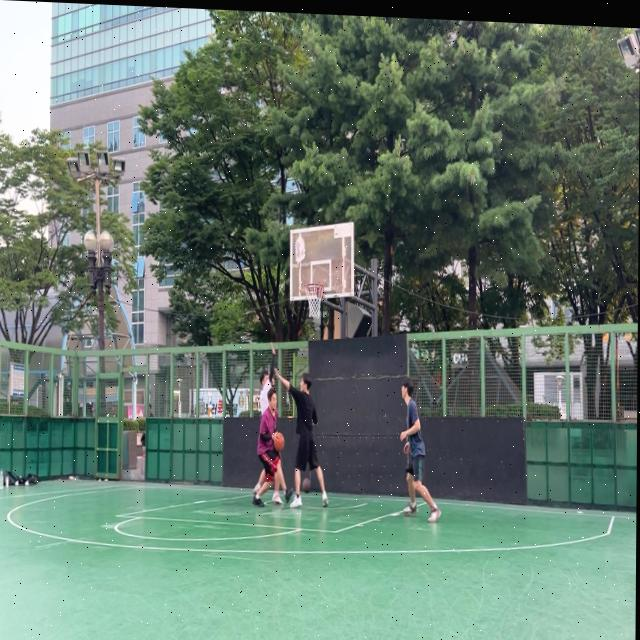basketball: (273, 432, 284, 452), (303, 477, 311, 493)
hoop: (304, 282, 324, 319)
